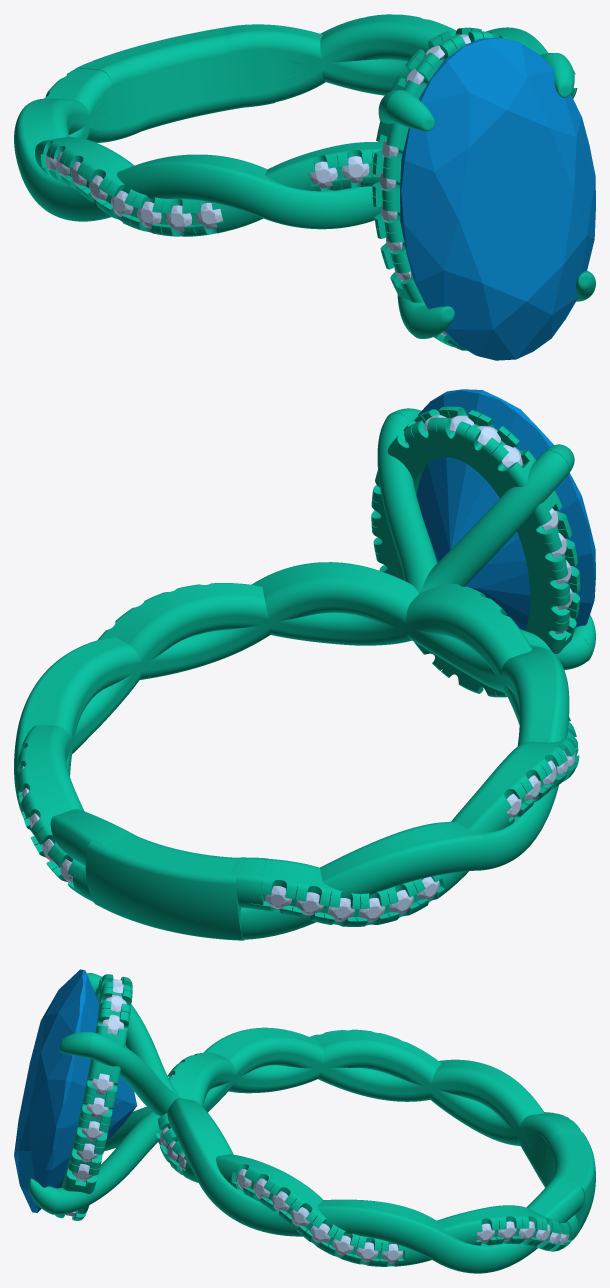
3 views of the same model, one above another, from view 1: azimuth 30°, elevation 25°; view 2: azimuth 150°, elevation 25°; view 3: azimuth 270°, elevation 25° (orthographic). The views are drawn at different scales.
Parts seen in each view (by area): view 1: VR124 FULL(base).3dm, Diamond_Oval, Diamond_Round (×4); view 2: VR124 FULL(base).3dm, Diamond_Oval; view 3: VR124 FULL(base).3dm, Diamond_Oval.
Part boxes in pixels (x1,y1,x2,y2): VR124 FULL(base).3dm: [14, 14, 595, 350]; Diamond_Oval: [400, 37, 595, 360]; Diamond_Round (×4): [165, 156, 369, 231]; VR124 FULL(base).3dm: [14, 406, 595, 940]; Diamond_Oval: [416, 389, 595, 630]; VR124 FULL(base).3dm: [28, 973, 595, 1273]; Diamond_Oval: [14, 969, 137, 1212].
Bounding box in the file's own units: 2.27 × 1.37 × 3.
